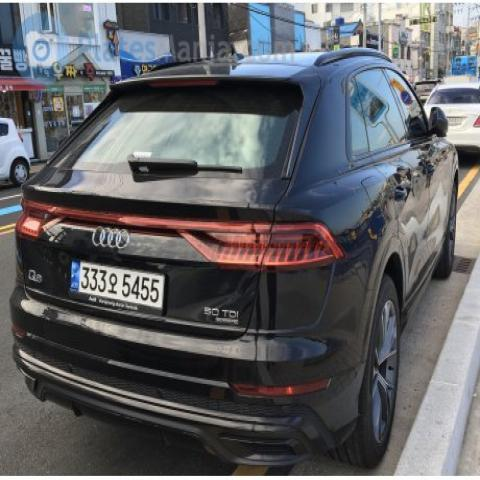LP: (61, 249, 176, 316)
